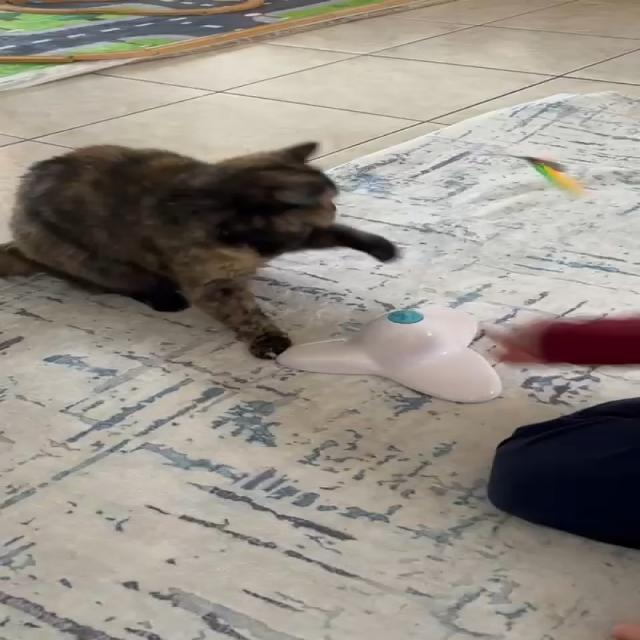authorized: (0, 139, 397, 360)
